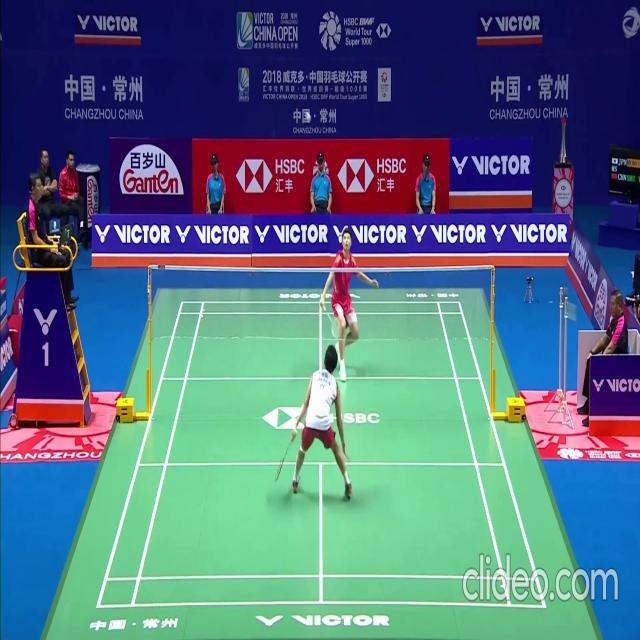Shuttlecock: (305, 111, 309, 119)
